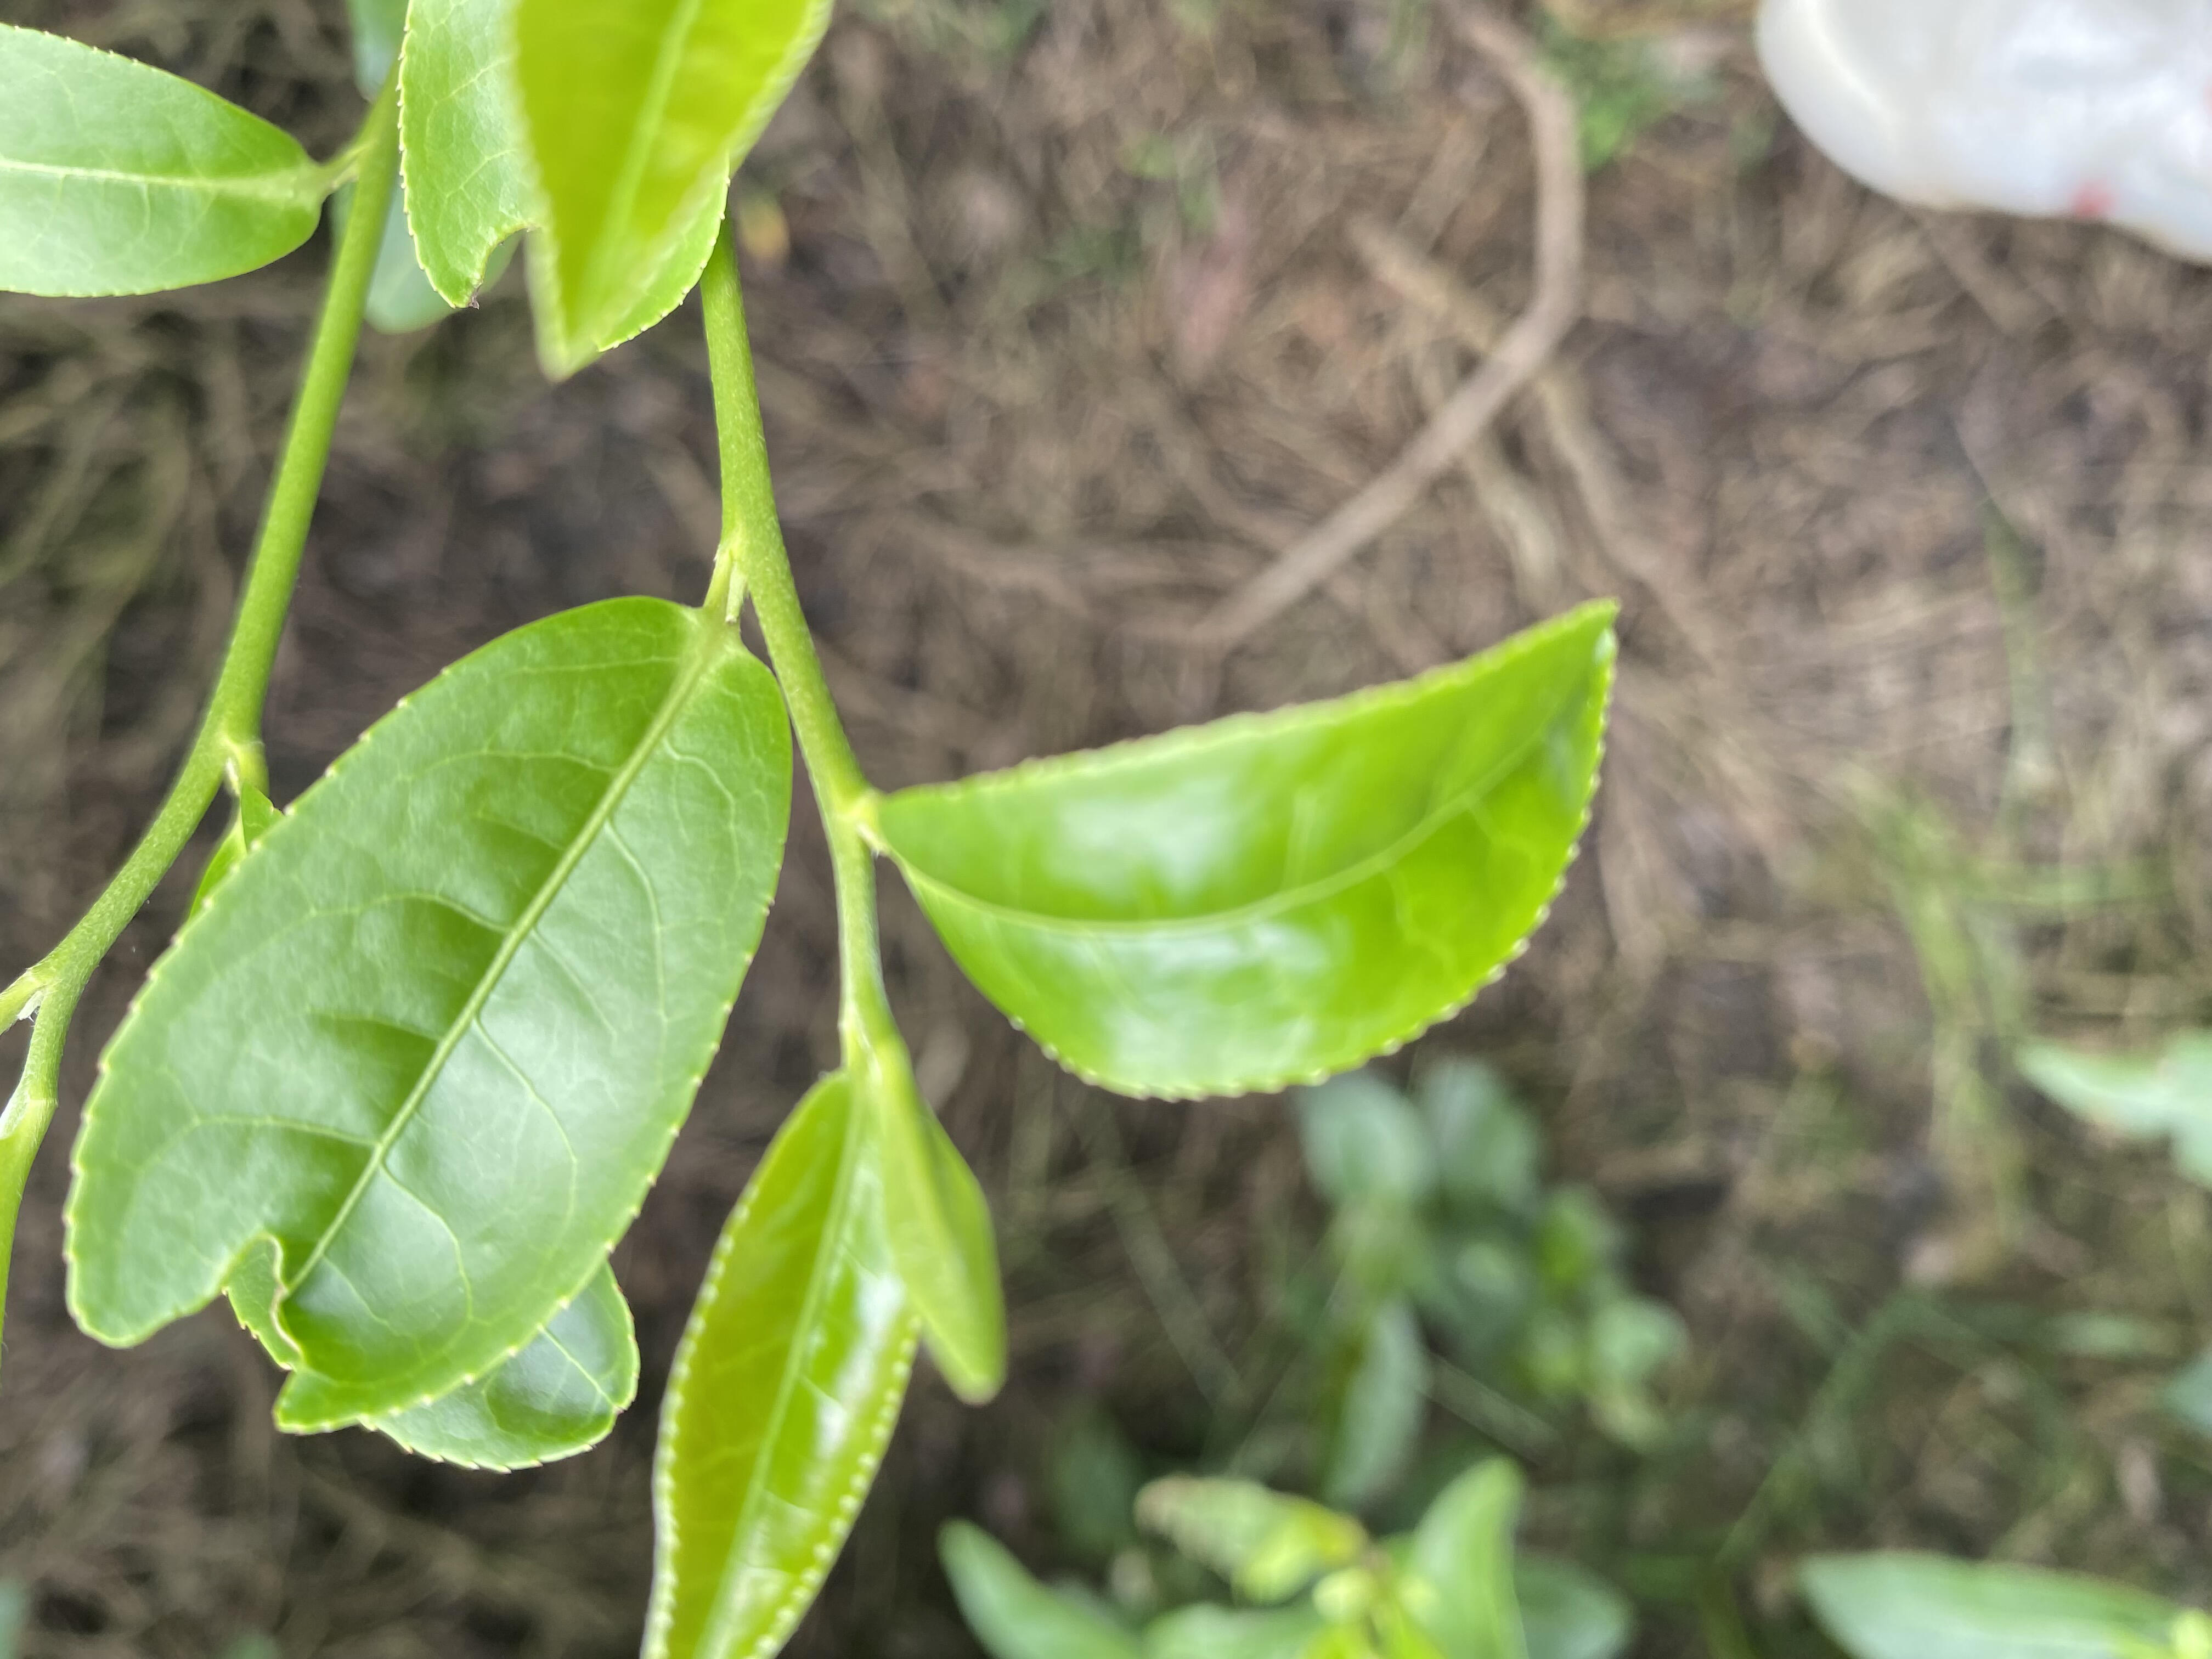healthy: (64, 592, 794, 1385), (888, 599, 1622, 1107), (637, 1077, 923, 1659)
